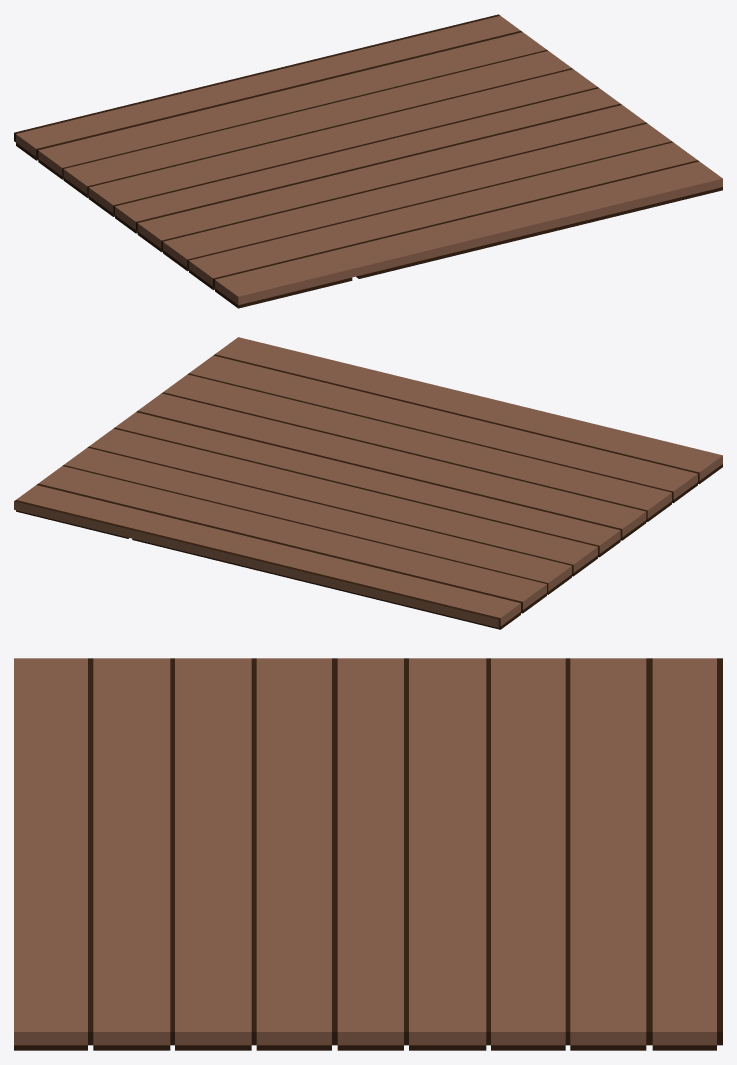
Rendered from WoodenPanelSide2Flipped.fbx.
The picture shows the model from 3 angles, top to bottom: view 1: azimuth 30°, elevation 25°; view 2: azimuth 150°, elevation 25°; view 3: azimuth 270°, elevation 25°; orthographic projection. The views are drawn at different scales.
Parts seen in each view (by area): view 1: pCube1; view 2: pCube1; view 3: pCube1.
Boxes of the visible parts, <box> form: pCube1: <box>14,14,722,308</box>; pCube1: <box>14,337,722,629</box>; pCube1: <box>14,658,722,1050</box>.
Bounding box in the file's own units: 34.76 × 0.807 × 27.86.
